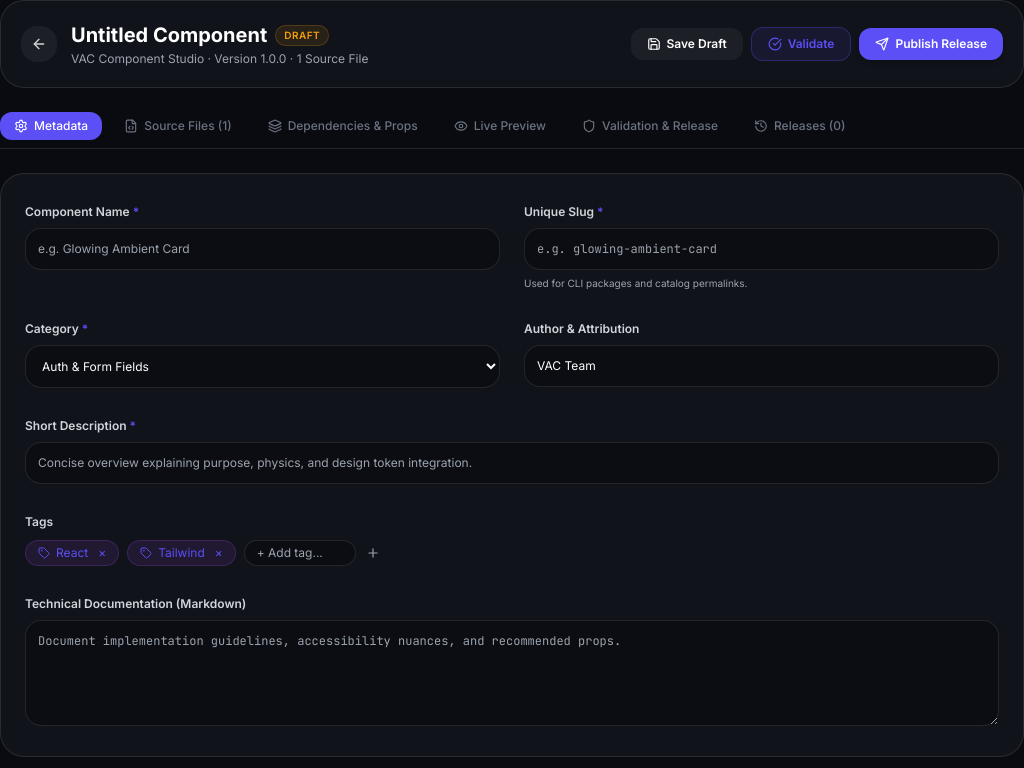
Phase 3 Admin Dashboard and Component Studio Frontend Tests › switches to source files tab and shows code editor in ComponentStudio
Click the button "Source Files (1)". click: x=178, y=126
box: [110,112,246,140]
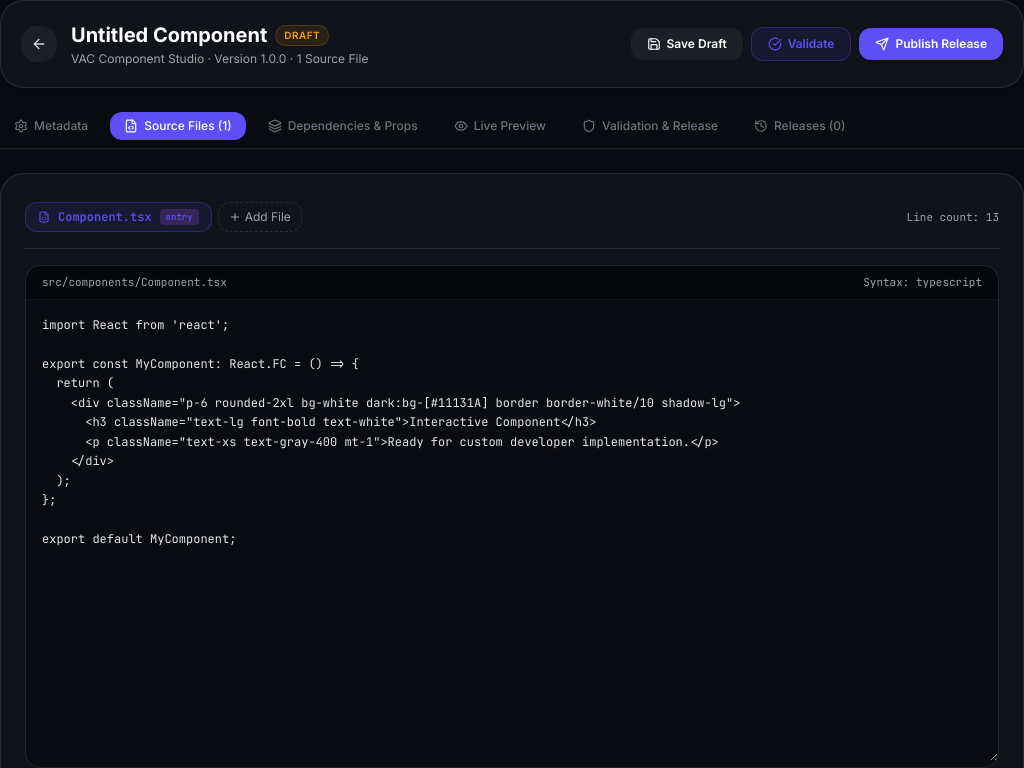
Check: the text "Component.tsx" is shown, box [58,209,152,225]
Check: the text "Syntax: typescript" is shown, box [863,274,982,290]
